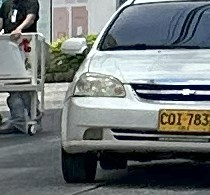number plate: (159, 110, 209, 131)
